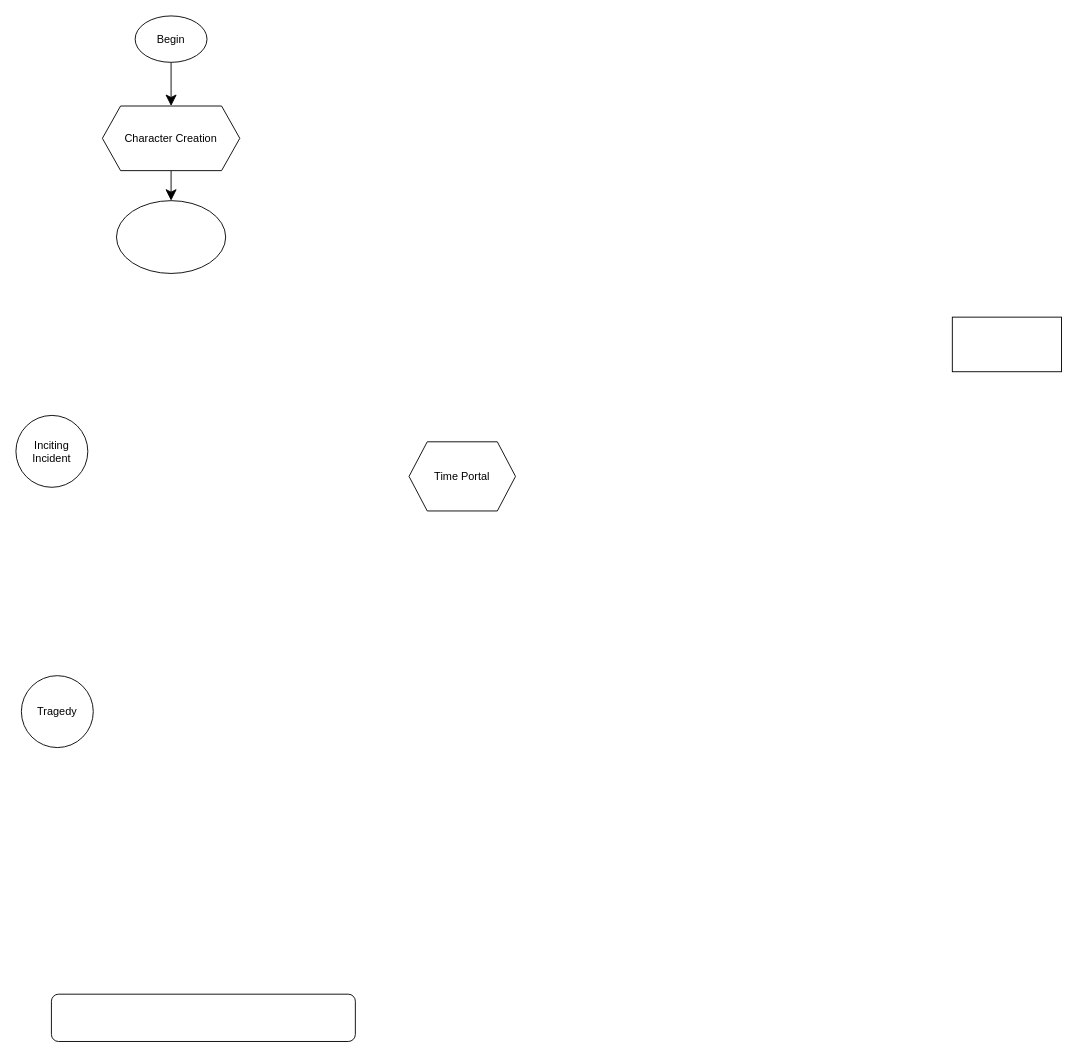
Image size: 1077x1057. Some labels were removed from this diagram. Each missing label, with the centre of its shape:
"Choose Character Traits" goes at point (171, 236).
"Guillotine the rich people" goes at point (1006, 344).
"The Inevitable Heat Death of the Universe" goes at point (203, 1017).
